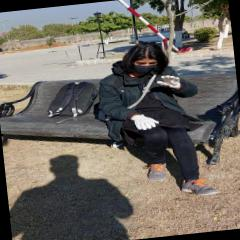gloved: (131, 112, 160, 130), (155, 73, 180, 90)
